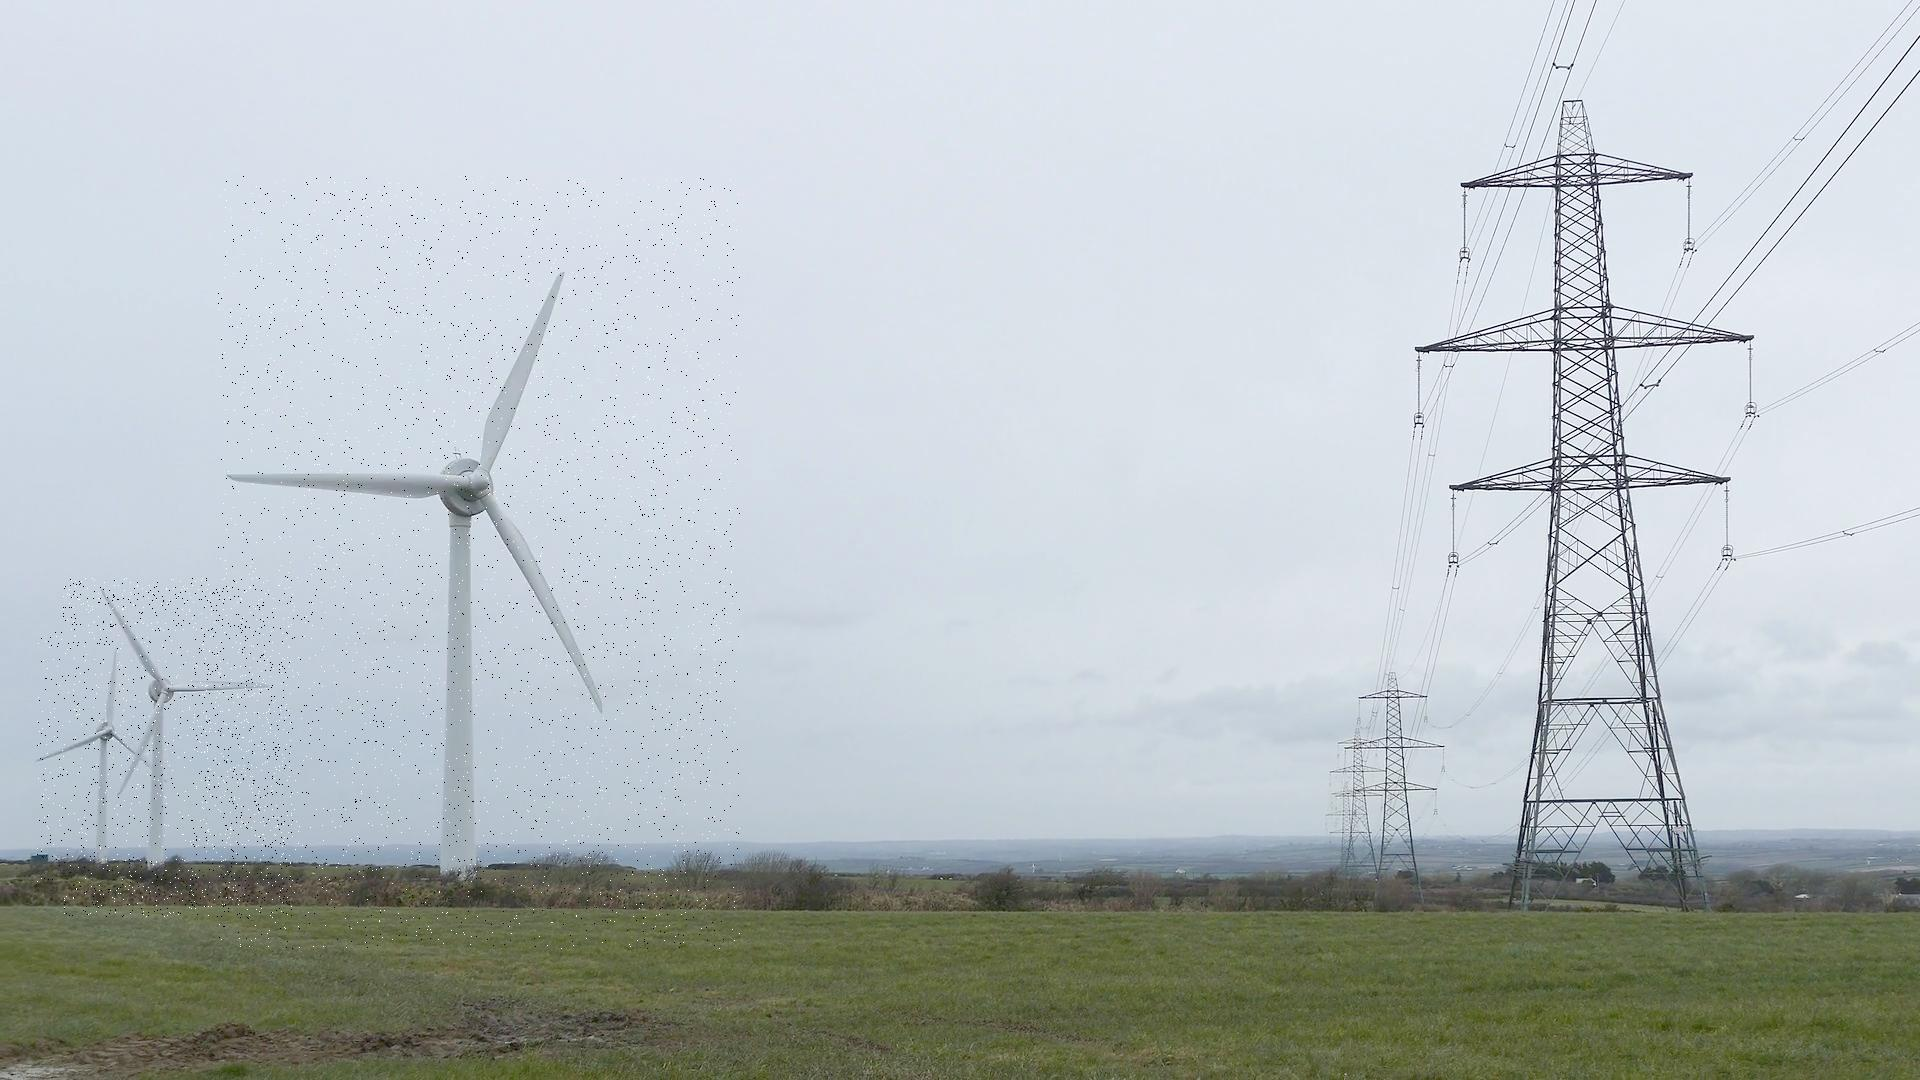cable tower: (1412, 98, 1753, 914), (1344, 671, 1445, 903), (1329, 727, 1386, 882), (1327, 789, 1369, 872)
turbine: (218, 175, 740, 949), (63, 579, 293, 918), (37, 633, 193, 887)
